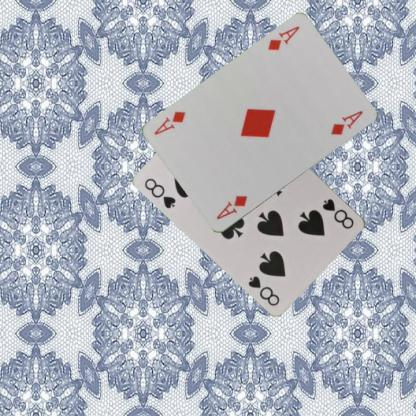8s: (320, 196, 356, 230), (142, 176, 178, 210)
Ad: (265, 24, 301, 52), (214, 193, 248, 221)
